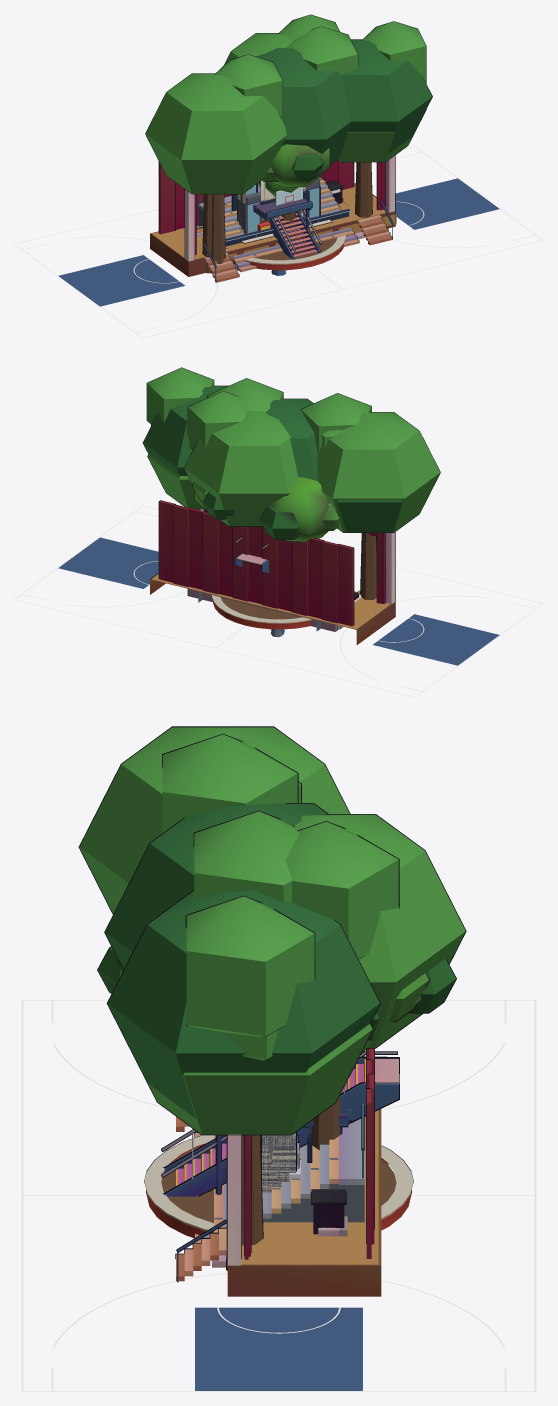
Rendered from fps-kit-academy.glb.
3 renders of one model, top to bottom at view 1: azimuth 30°, elevation 25°; view 2: azimuth 150°, elevation 25°; view 3: azimuth 270°, elevation 25°, orthographic. The views are drawn at different scales.
Visible parts, largest first — view 1: KIT_ACADEMY_Backdrop_TreesA, KIT_ACADEMY_Backdrop_TreesB, KIT_ACADEMY_Stage, KIT_ACADEMY_F_Court, KIT_ACADEMY_Landmark_Tree, KIT_ACADEMY_Bleacher, KIT_ACADEMY_Stair, KIT_ACADEMY_GateFrame, KIT_ACADEMY_Landmark_Serving_Glow, KIT_ACADEMY_Canopy_S, KIT_ACADEMY_SnackBar; view 2: KIT_ACADEMY_Backdrop_TreesB, KIT_ACADEMY_Stage, KIT_ACADEMY_Backdrop_TreesA, KIT_ACADEMY_F_Court, KIT_ACADEMY_Landmark_Tree, KIT_ACADEMY_Tiers, KIT_ACADEMY_Stair; view 3: KIT_ACADEMY_Backdrop_TreesB, KIT_ACADEMY_Backdrop_TreesA, KIT_ACADEMY_Stage, KIT_ACADEMY_F_Court, KIT_ACADEMY_Landmark_Tree, KIT_ACADEMY_Bleacher, KIT_ACADEMY_Stair, KIT_ACADEMY_GateFrame.
Part boxes in pixels (bbox=[...]): KIT_ACADEMY_Backdrop_TreesA: bbox=[145, 26, 426, 263]; KIT_ACADEMY_Backdrop_TreesB: bbox=[146, 14, 432, 273]; KIT_ACADEMY_Stage: bbox=[150, 155, 396, 282]; KIT_ACADEMY_F_Court: bbox=[14, 146, 543, 338]; KIT_ACADEMY_Landmark_Tree: bbox=[244, 144, 346, 270]; KIT_ACADEMY_Bleacher: bbox=[198, 177, 359, 272]; KIT_ACADEMY_Stair: bbox=[269, 209, 322, 259]; KIT_ACADEMY_GateFrame: bbox=[237, 177, 320, 233]; KIT_ACADEMY_Landmark_Serving_Glow: bbox=[225, 209, 350, 246]; KIT_ACADEMY_Canopy_S: bbox=[231, 194, 311, 220]; KIT_ACADEMY_SnackBar: bbox=[231, 194, 332, 243]; KIT_ACADEMY_Backdrop_TreesB: bbox=[142, 367, 402, 599]; KIT_ACADEMY_Stage: bbox=[150, 500, 395, 644]; KIT_ACADEMY_Backdrop_TreesA: bbox=[147, 378, 440, 593]; KIT_ACADEMY_F_Court: bbox=[14, 505, 543, 697]; KIT_ACADEMY_Landmark_Tree: bbox=[192, 477, 339, 629]; KIT_ACADEMY_Tiers: bbox=[187, 589, 342, 631]; KIT_ACADEMY_Stair: bbox=[234, 537, 268, 572]; KIT_ACADEMY_Backdrop_TreesB: bbox=[106, 782, 466, 1270]; KIT_ACADEMY_Backdrop_TreesA: bbox=[78, 726, 373, 1244]; KIT_ACADEMY_Stage: bbox=[175, 1048, 381, 1296]; KIT_ACADEMY_F_Court: bbox=[21, 1000, 536, 1391]; KIT_ACADEMY_Landmark_Tree: bbox=[97, 946, 456, 1238]; KIT_ACADEMY_Bleacher: bbox=[194, 1056, 364, 1243]; KIT_ACADEMY_Stair: bbox=[161, 1051, 399, 1196]; KIT_ACADEMY_GateFrame: bbox=[261, 1131, 296, 1192].
Bounding box in the file's own units: 27 × 15.61 × 15.
1 material, 1 textured.
